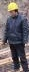hard-hat: (7, 1, 18, 11)
